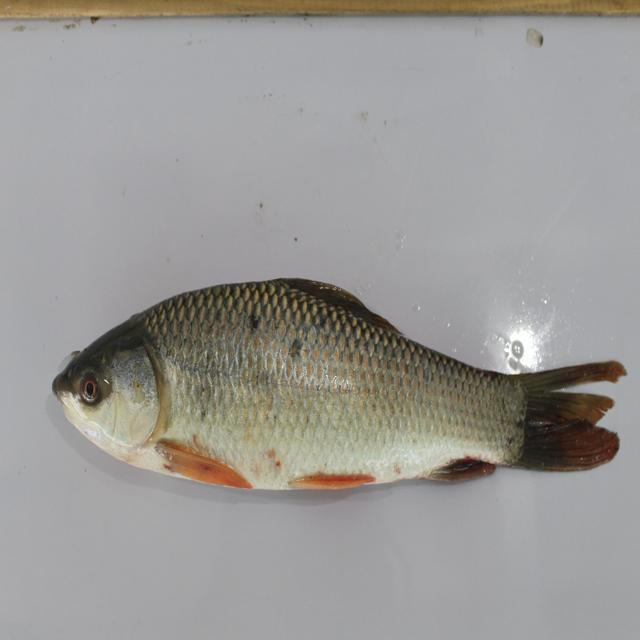Rohu: (52, 292, 624, 499)
